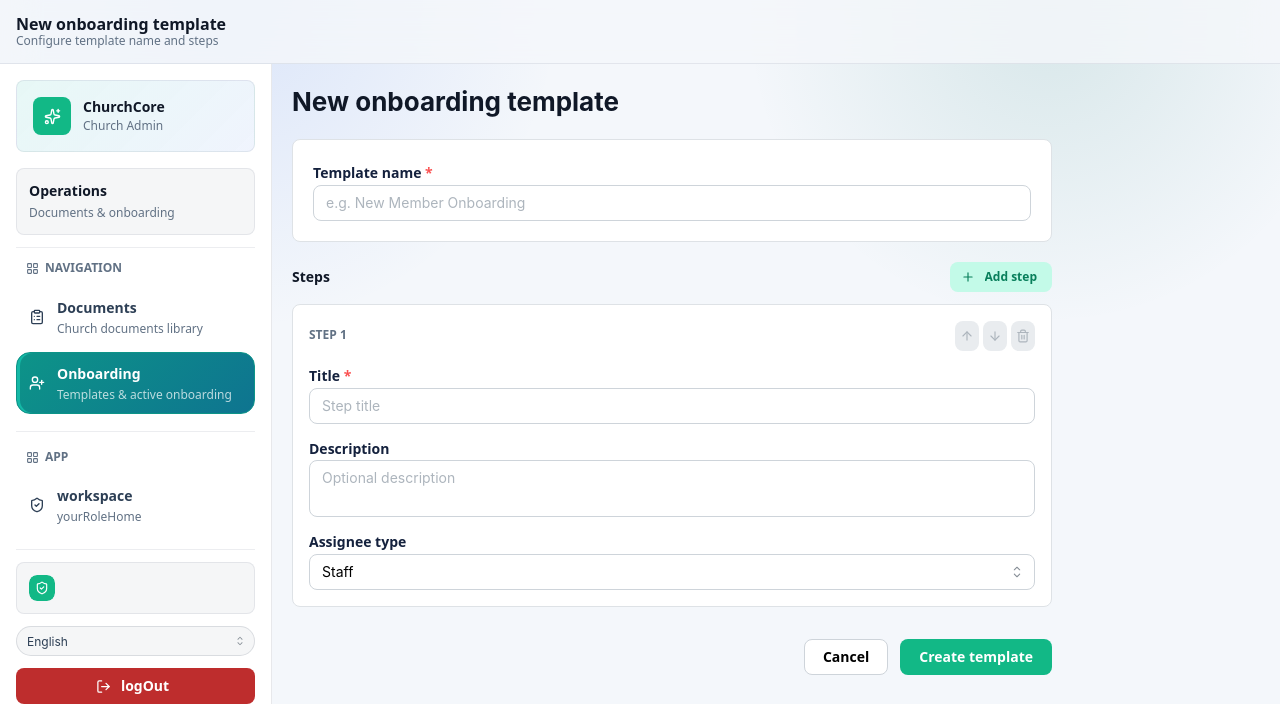
Test: OperationsOnboardingTemplateFormClient — create mode › adds a new step when 'Add step' is clicked (AC14)
The image size is (1280, 704).
Click the button "Add step": (1001, 277) [950, 262, 1052, 292]
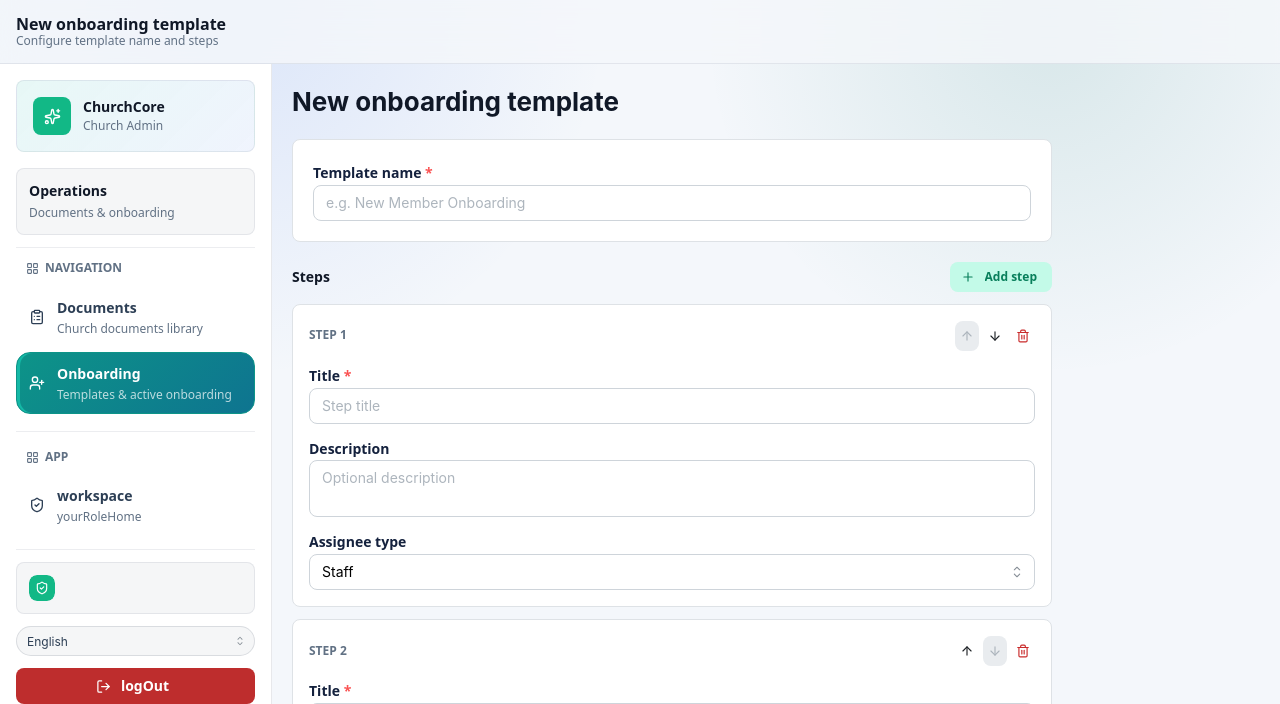
Expected: the text "Step 2" is shown, [309, 643, 347, 660]
